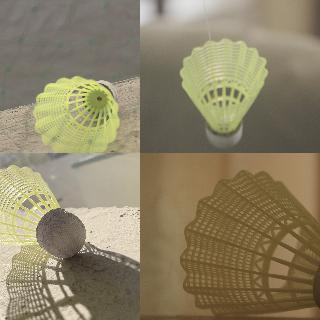shuttlecock: (179, 169, 319, 319), (180, 37, 266, 149), (0, 164, 85, 259), (33, 75, 120, 152)
